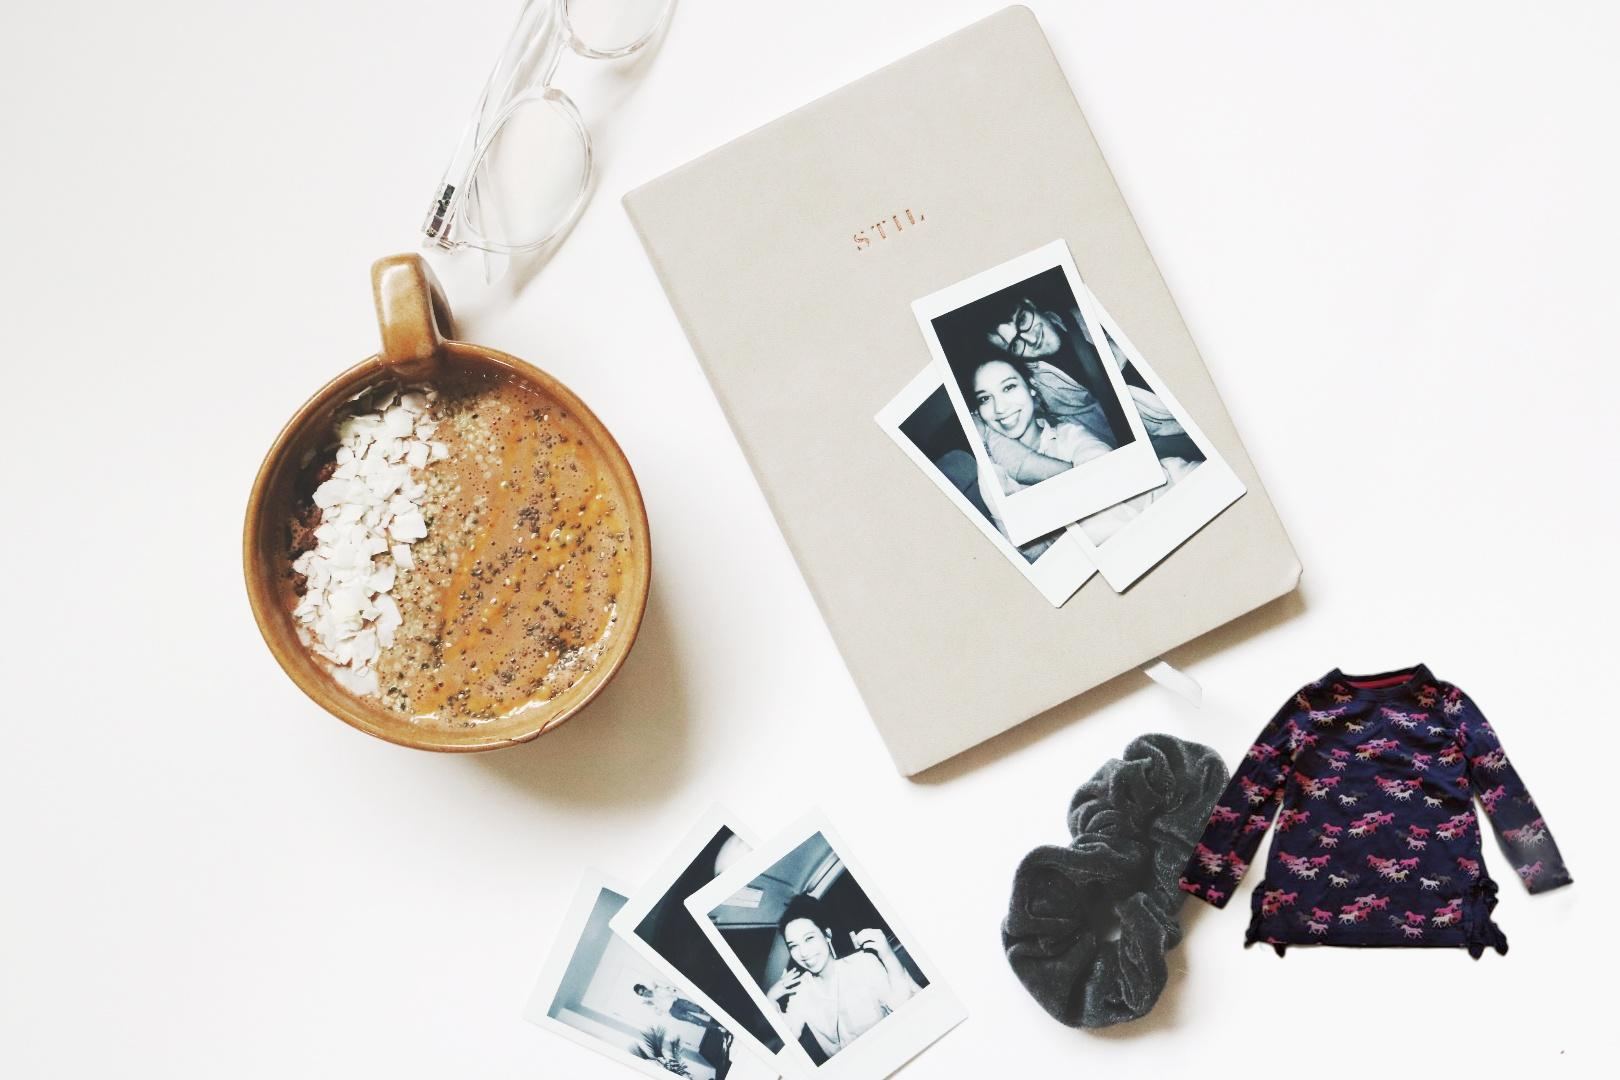clothes: (1179, 659, 1579, 965)
